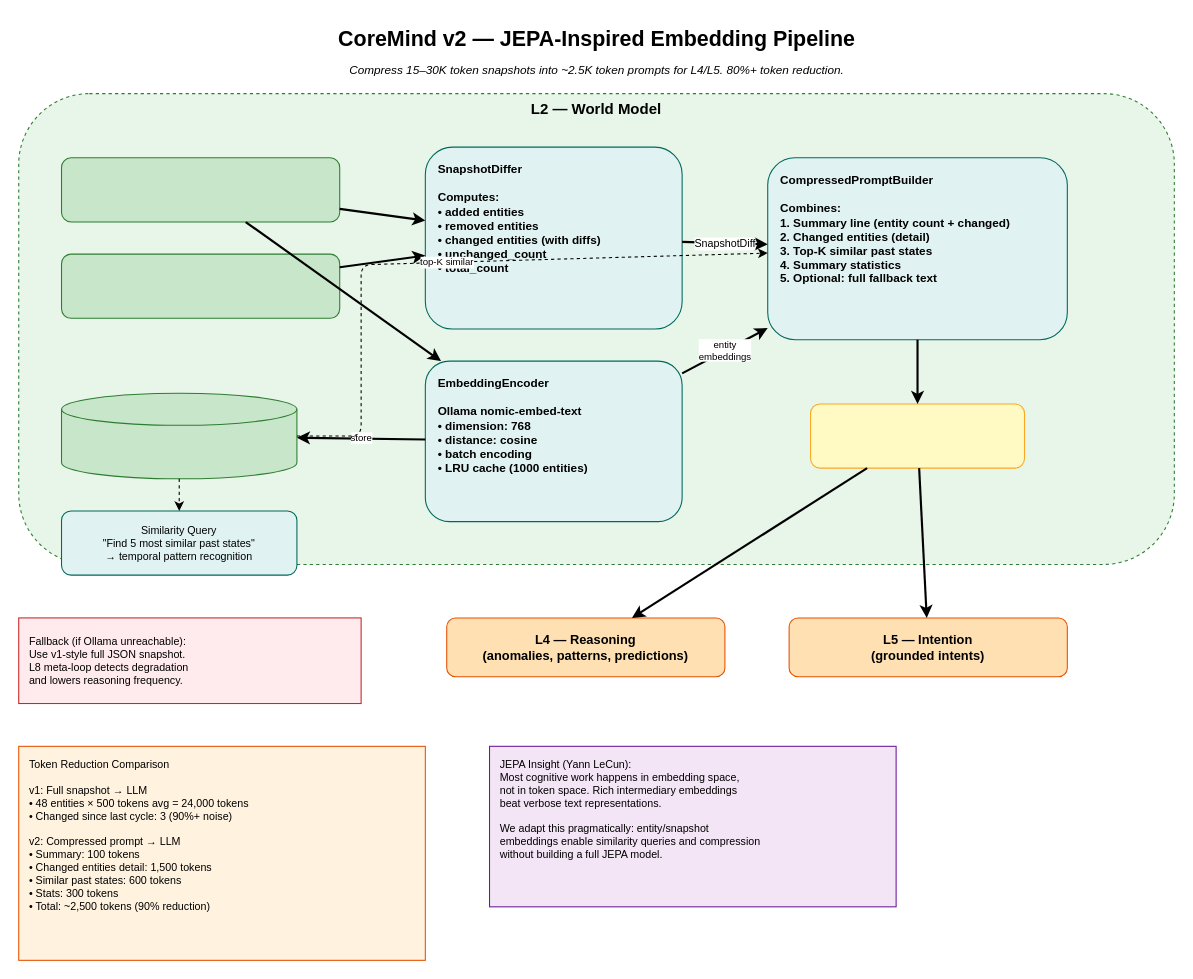
Image size: 1193x979. Some labels were removed from this diagram. Each missing label, with the centre of its shape:
CompressedPrompt ~2,500 tokens (vs 15–30K in v1): the point at 917,435
Current WorldSnapshot (48 entities, 24K tokens raw): the point at 200,189
Previous WorldSnapshot (from last reasoning cycle): the point at 200,285
Qdrant snapshot_embeddings (last 1000, 768d, cosine): the point at 178,435
